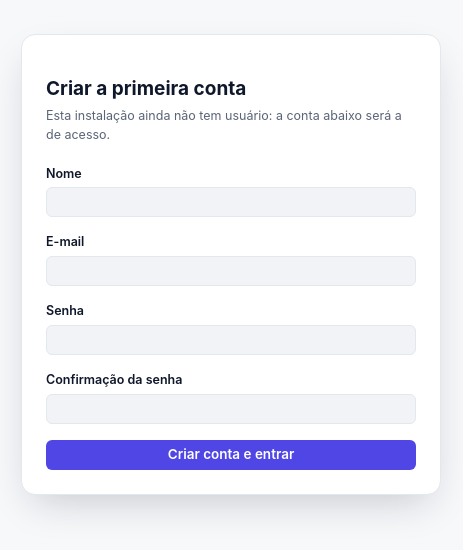
Test: SetupPage › recusa senha curta
In the field with test id "setup-name": coordinates (231, 202) [46, 187, 416, 217], type "Dono"
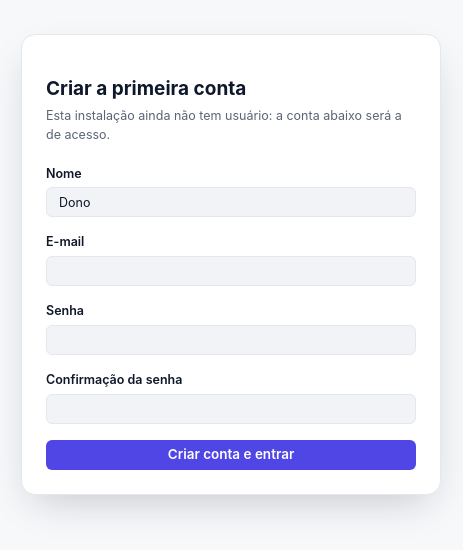
In the field with test id "setup-email": coordinates (231, 271) [46, 256, 416, 286], type "dono@exemplo.org"
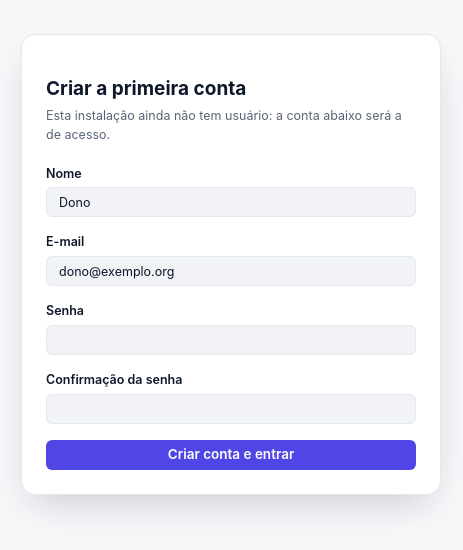
In the password field with test id "setup-password": coordinates (231, 340) [46, 325, 416, 355], type "curta"
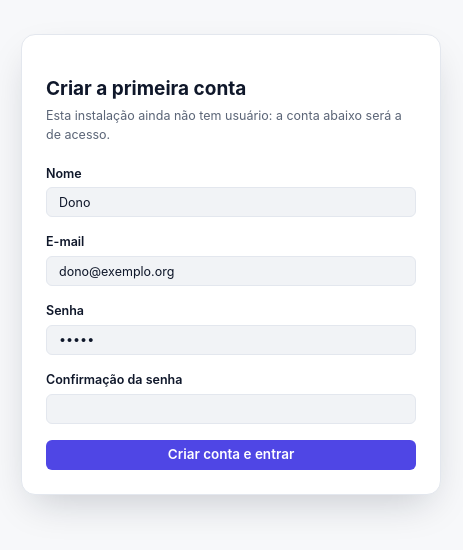
In the password field with test id "setup-confirm": coordinates (231, 408) [46, 394, 416, 424], type "curta"
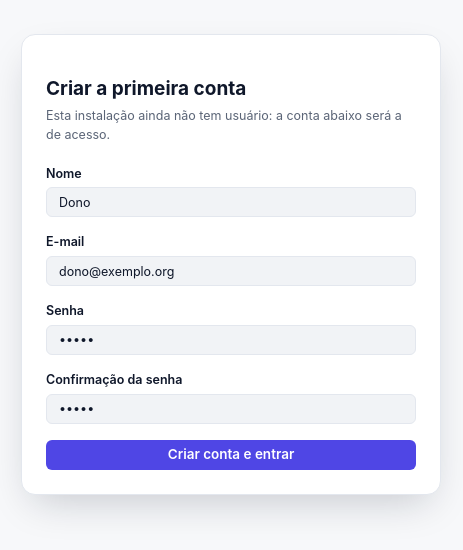
Submit the form, box [46, 164, 416, 470]
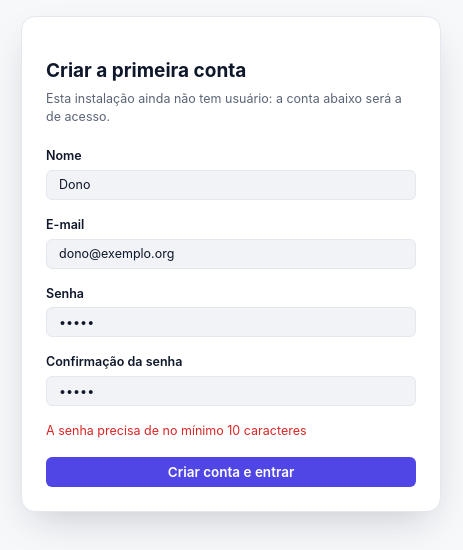
Expected: the message with test id "setup-error" shows "no mínimo 10 caracteres", [46, 423, 307, 438]
